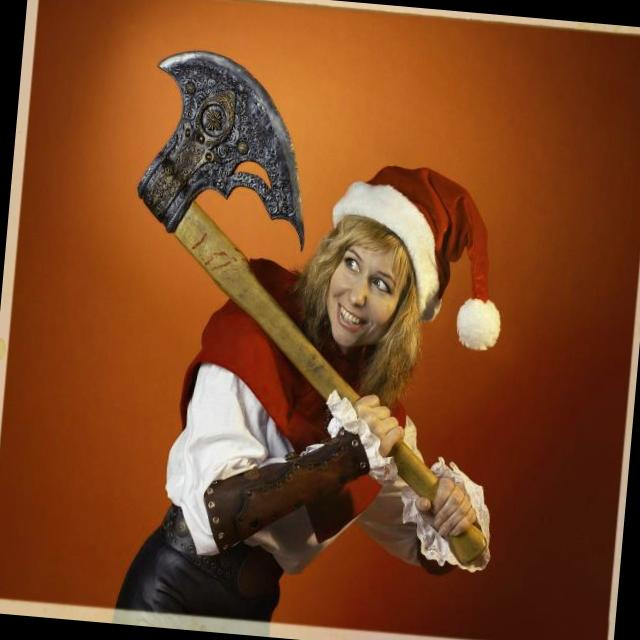Axe: (139, 51, 359, 401), (392, 440, 437, 499)
